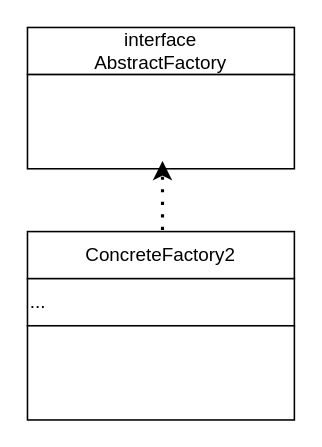
Some shapes in this 322 by 447 pixel diagram are drawn without their labels. The centre of each missing label's shape, as x and y in pixels:
+ createProductA(): ProductA + createProductB(): ProductB: the point at 160,121
+createProduct: the point at 160,372
